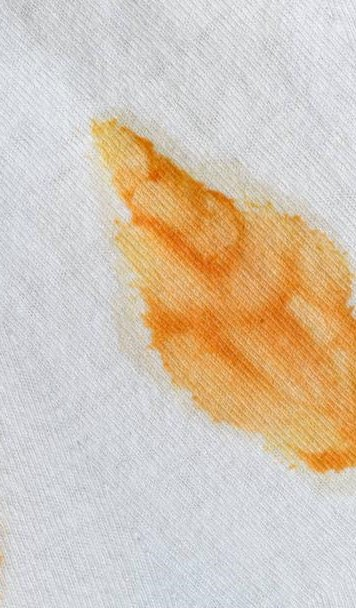stain: (86, 105, 355, 476)
